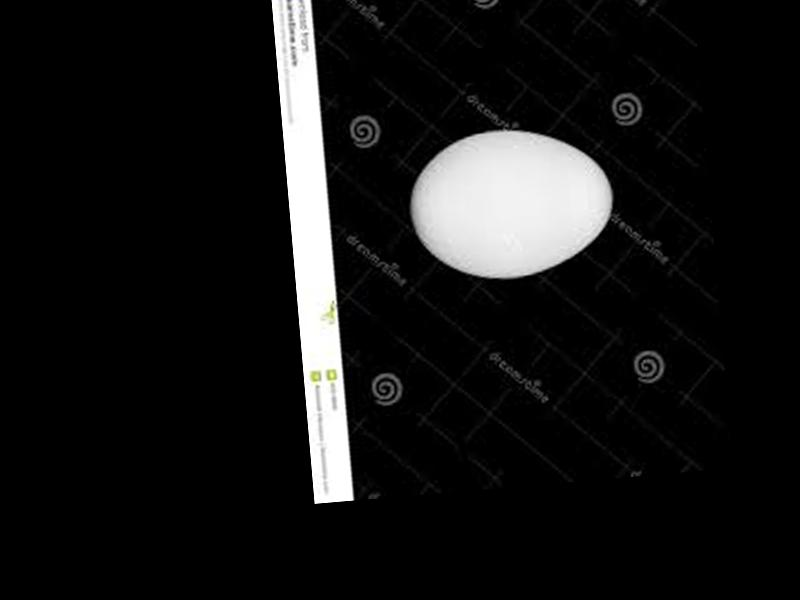Eggs: (405, 123, 617, 289)
